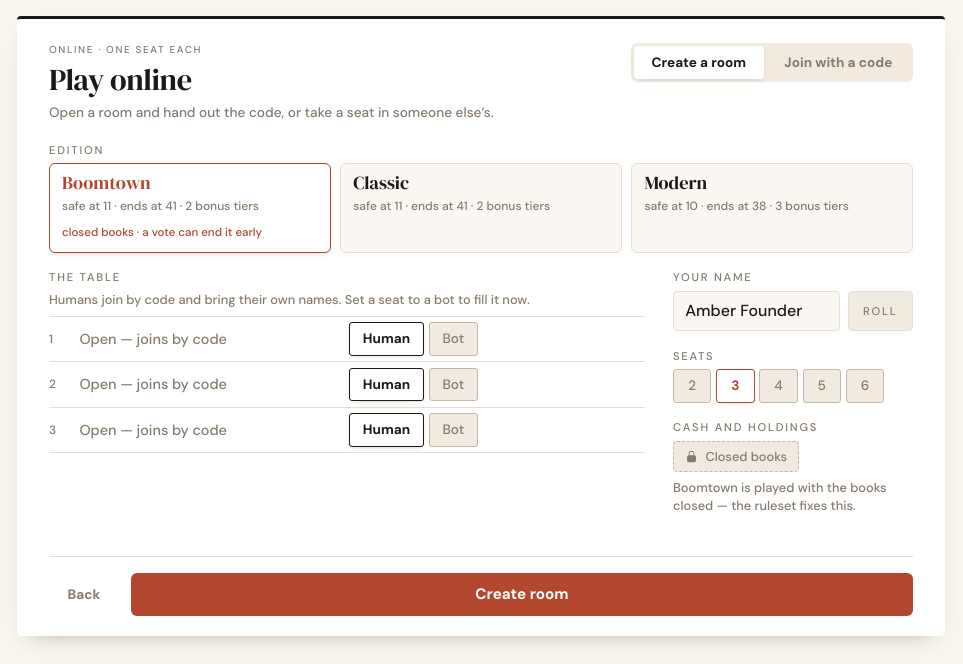
CreateJoin › surfaces a connection failure
The image size is (963, 664).
Click the button "Create room".
click(522, 594)  # box x1=131 y1=573 x2=913 y2=616
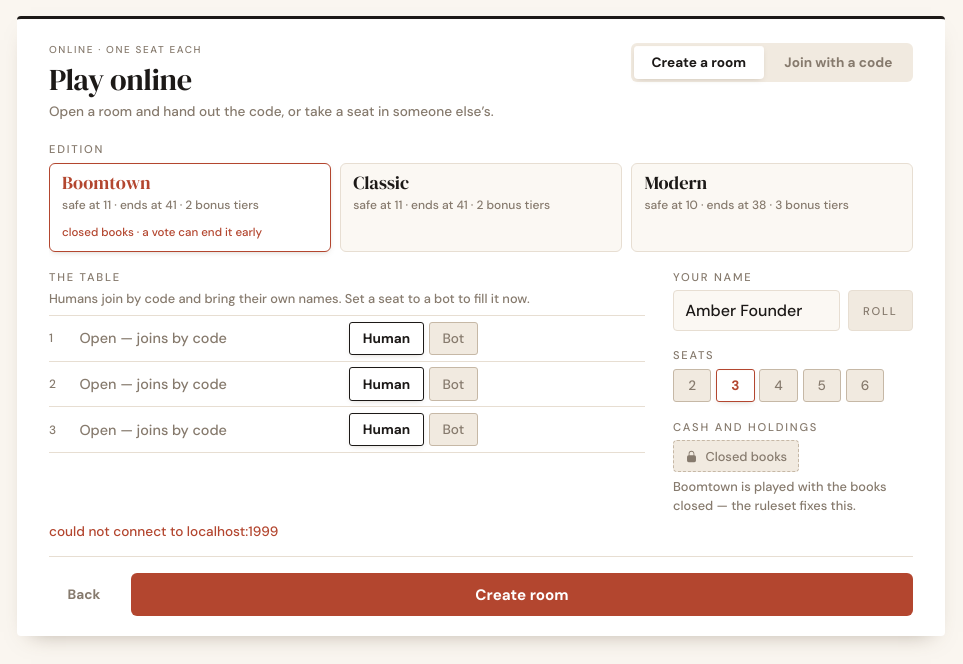
Expected: the message shows "could not connect", x1=49 y1=524 x2=278 y2=540
